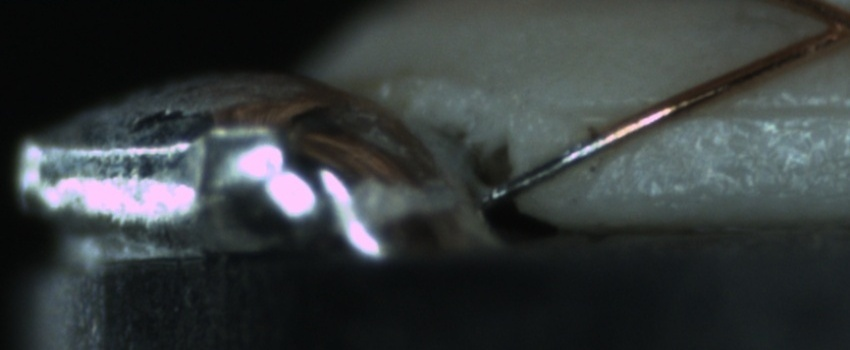CL: (799, 1, 850, 59)
DL: (564, 83, 849, 143)
TS: (481, 136, 611, 203)
